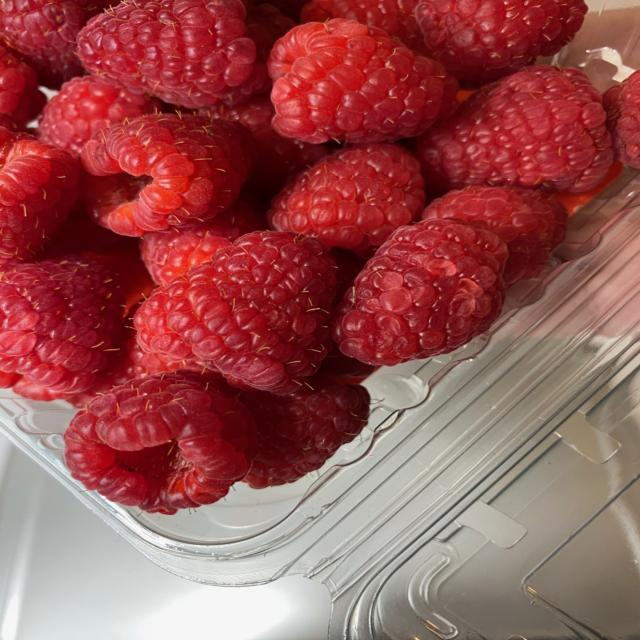raspberries: (21, 1, 587, 512)
